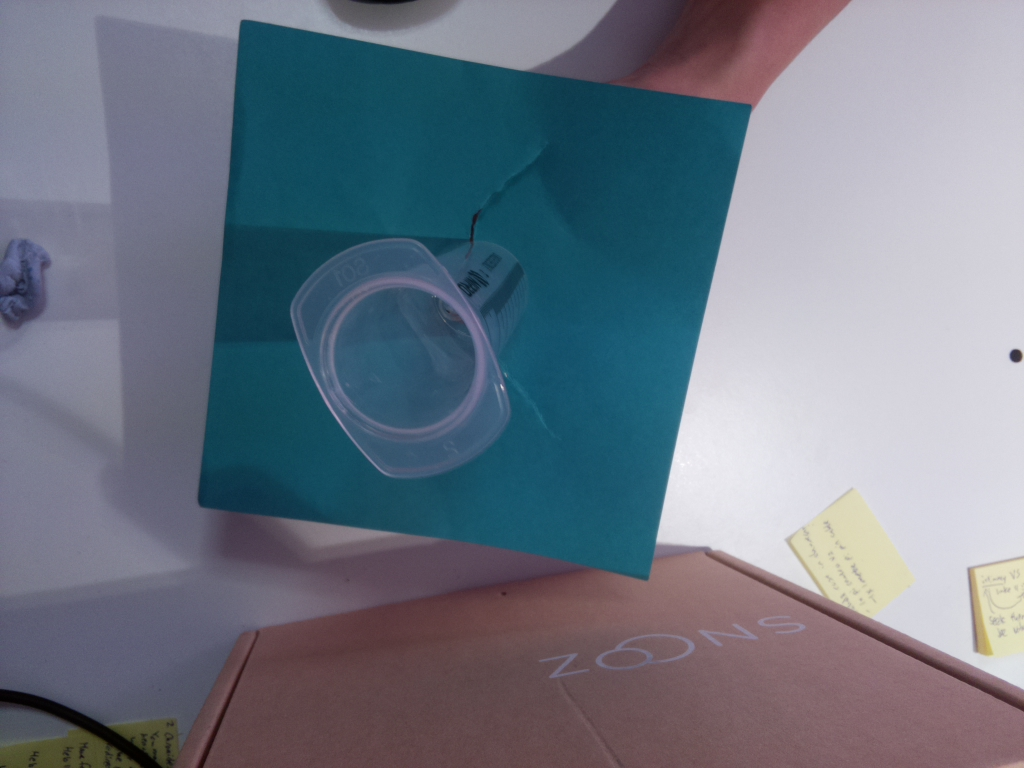clean: (289, 237, 513, 478)
